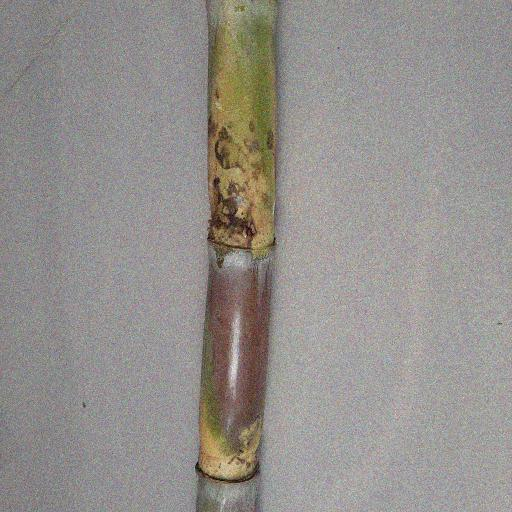Damage_Bud: (242, 225, 253, 253)
